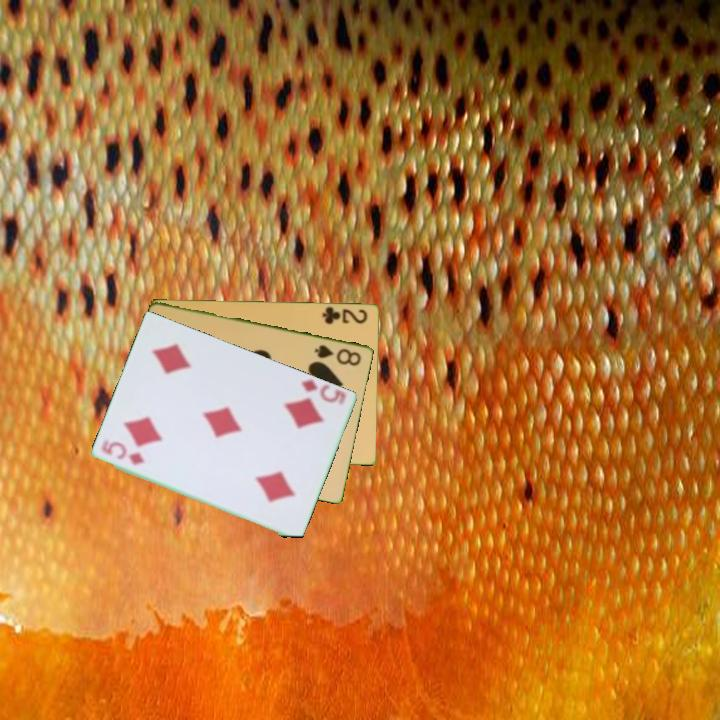2c: (319, 303, 370, 326)
5d: (298, 376, 350, 407), (98, 441, 148, 468)
8s: (311, 341, 364, 369)
